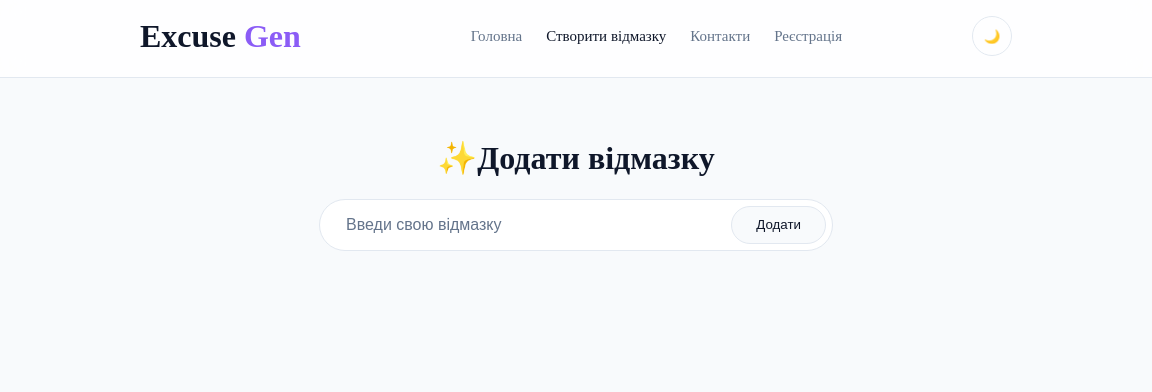
Test: Сторінка додавання відмазок › 6. Видаляє відмазку зі списку при натисканні на ✕
In the field with placeholder "Введи свою відмазку": [529, 225] box [326,206,731,244], type "Відмазка на видалення"
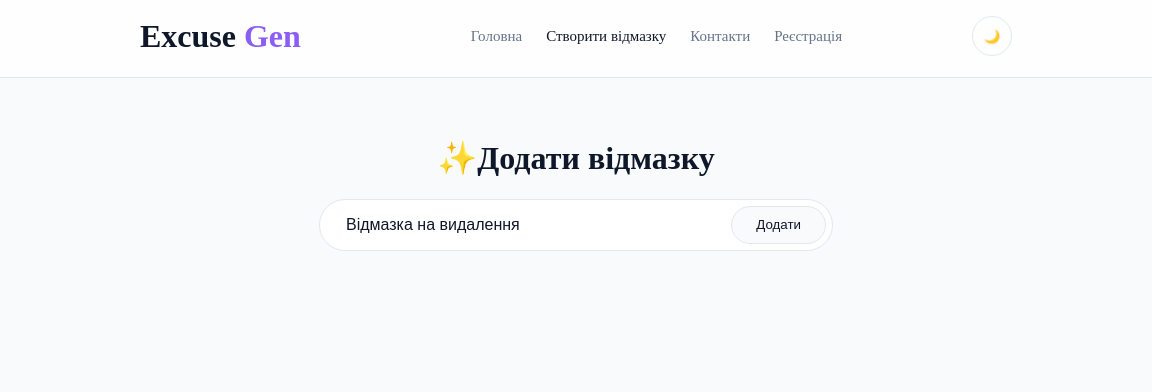
Click the button "Додати": [779, 225] box [731,206,826,244]
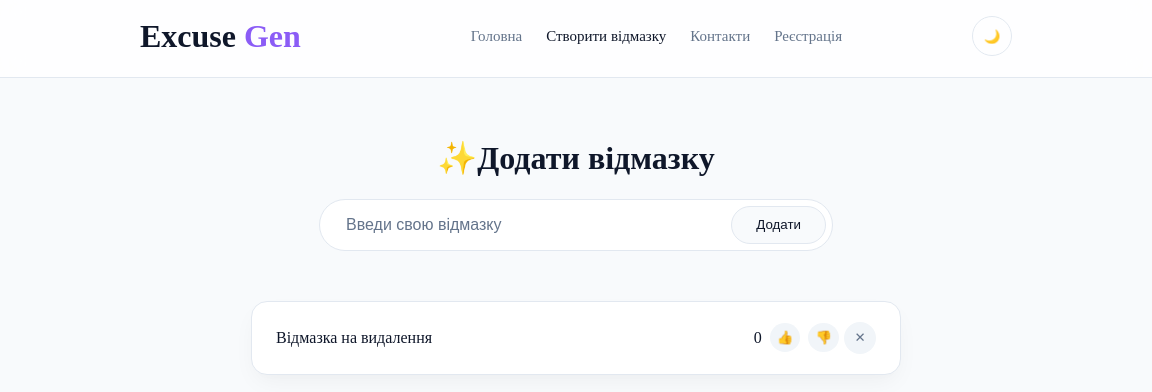
Expected: the text "Відмазка на видалення" is shown, [276,329,448,347]
Click the button "✕": [860, 338] box [844,322,876,354]
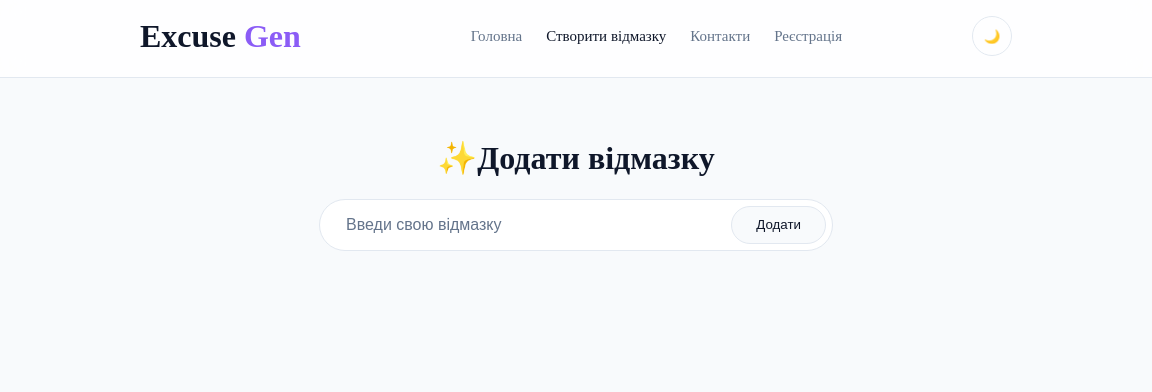
Expected: the text "Відмазка на видалення" is gone
